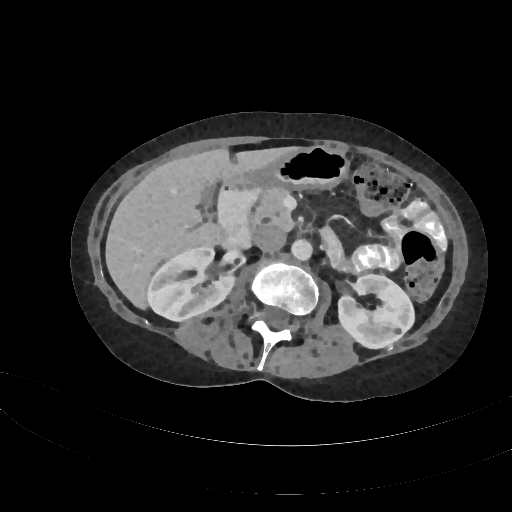Lesion: (390, 321, 406, 337)
